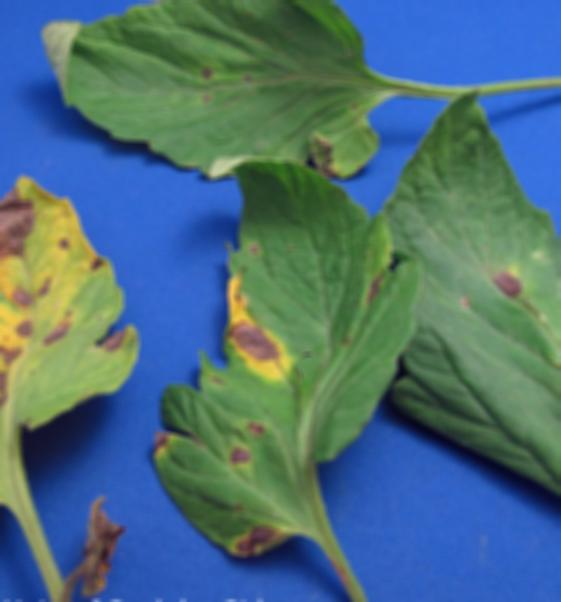Tomato Early blight leaf: (151, 155, 412, 577), (386, 86, 561, 602), (0, 0, 415, 190), (0, 164, 132, 562)
